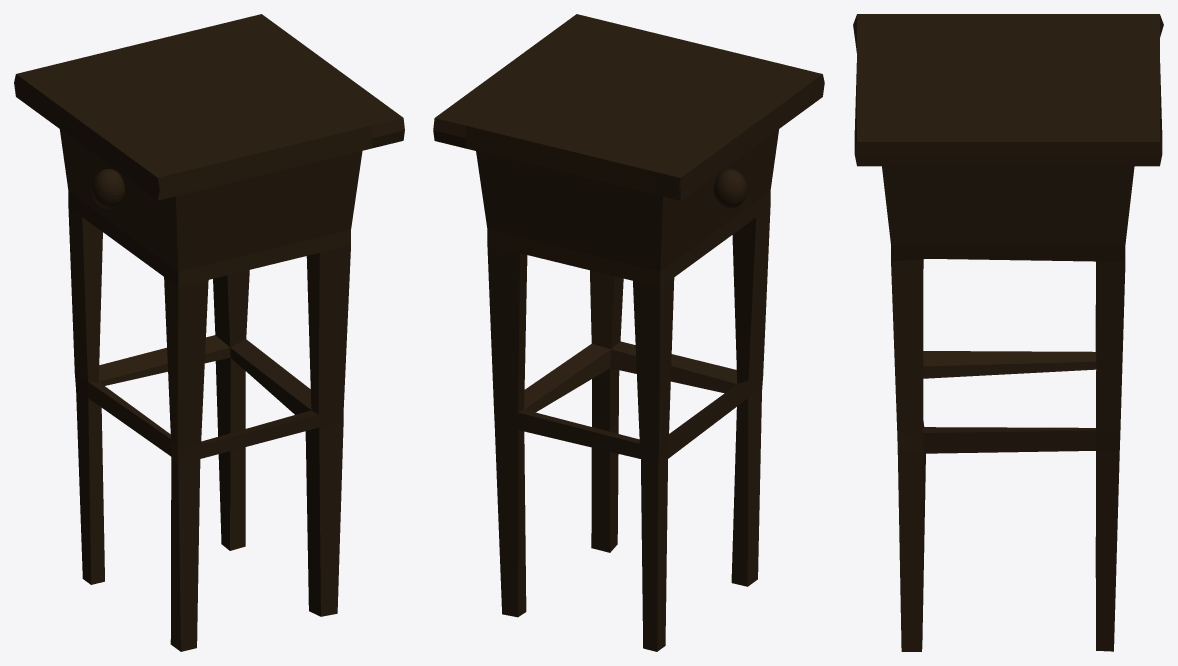
The model's file is Yöpöytä.fbx.
3 views of the same model, side by side, from view 1: azimuth 30°, elevation 25°; view 2: azimuth 150°, elevation 25°; view 3: azimuth 270°, elevation 25° (orthographic). The views are drawn at different scales.
Visible parts, largest first — view 1: Sphere; view 2: Sphere; view 3: Sphere.
Boxes of the visible parts, x1=… form: Sphere: x1=14, y1=14, x2=404, y2=651; Sphere: x1=433, y1=14, x2=824, y2=651; Sphere: x1=853, y1=14, x2=1163, y2=651.
Size of the model in its own units: 125 by 243 by 128.
